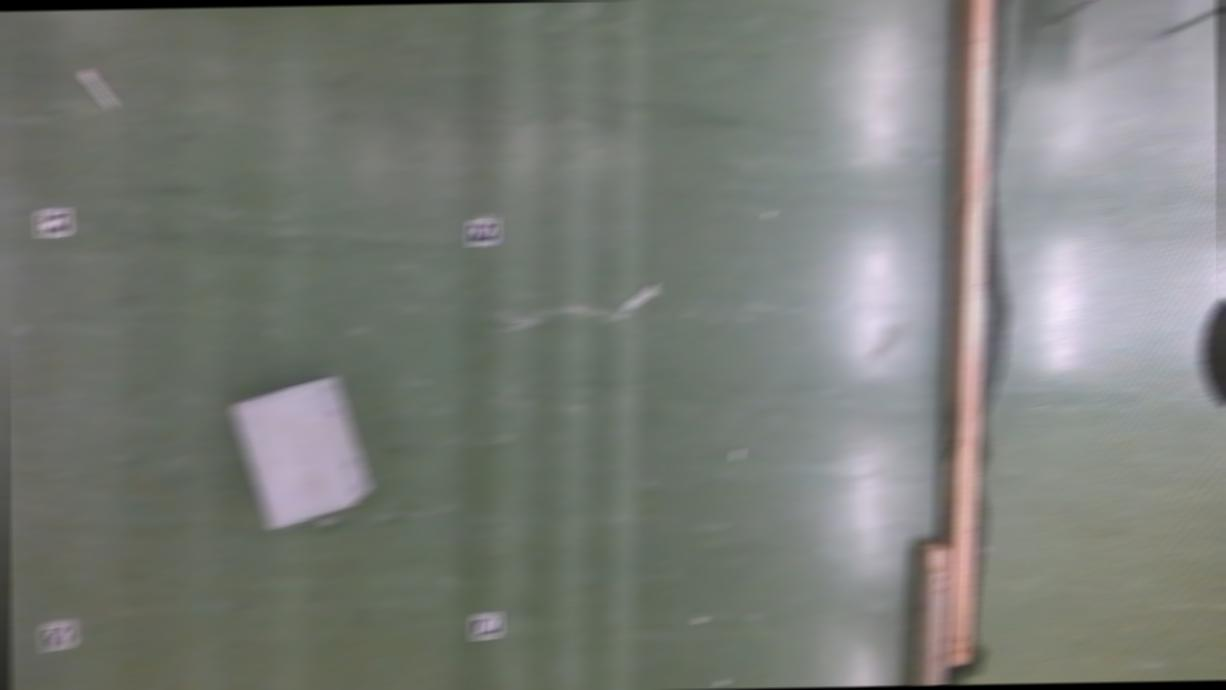probes: (82, 66, 115, 108), (618, 281, 657, 314)
rako: (229, 372, 373, 528)
